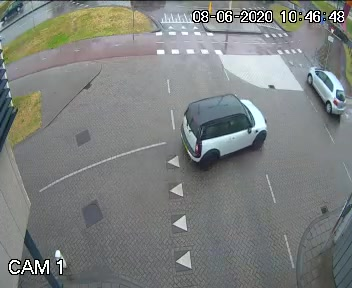car: (170, 82, 269, 175), (296, 65, 351, 127)
